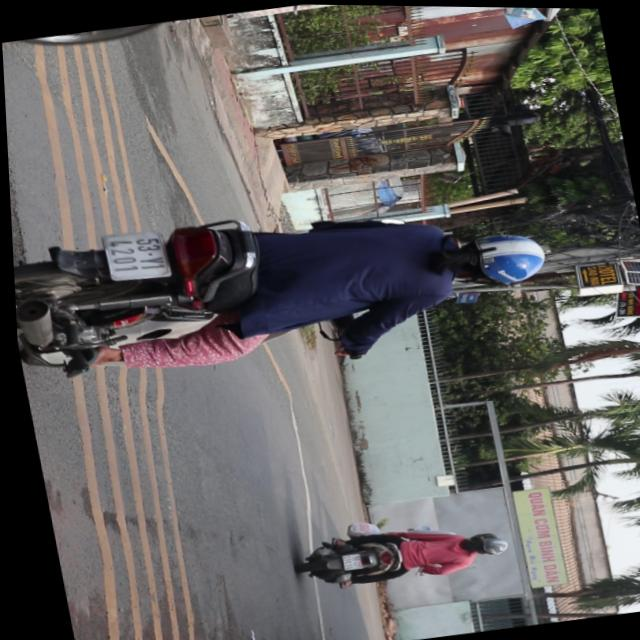helmet: (438, 221, 550, 292), (461, 525, 507, 557)
licenseplate: (7, 160, 564, 400), (287, 506, 511, 595)
nohelmet: (102, 225, 168, 281), (336, 552, 357, 568)
